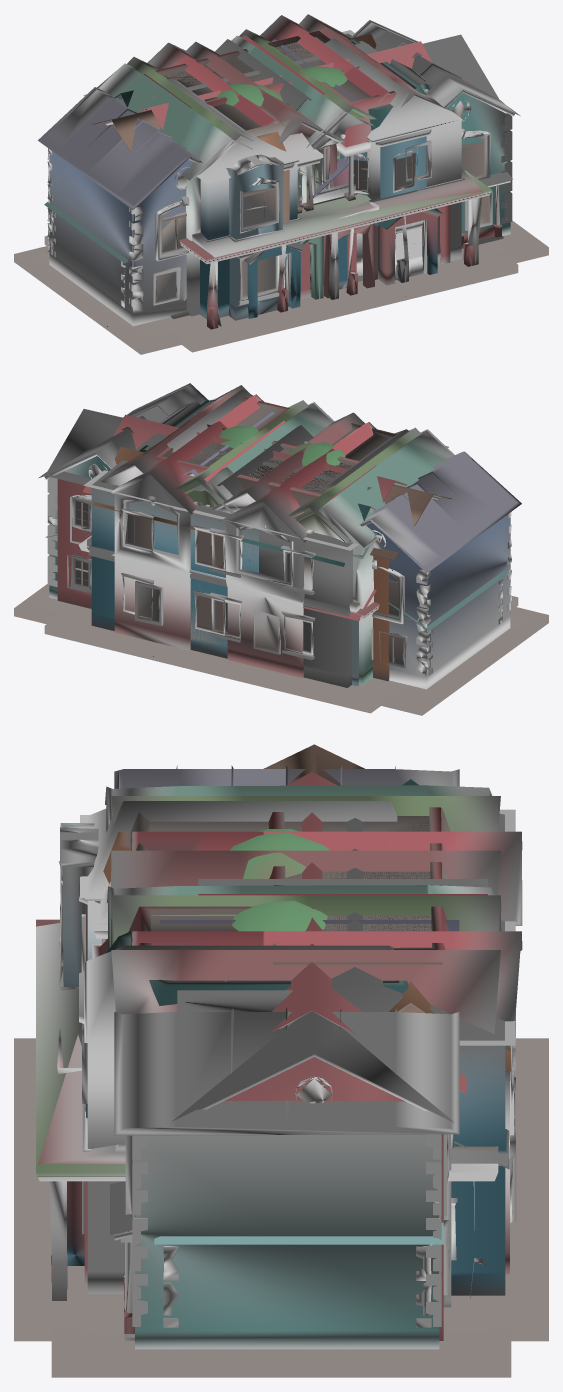
The model's file is Props.glb.
3 views of the same model, one above another, from view 1: azimuth 30°, elevation 25°; view 2: azimuth 150°, elevation 25°; view 3: azimuth 270°, elevation 25° (orthographic). The views are drawn at different scales.
Visible parts, largest first — view 1: house_20, house_4, house_2, house_16, house_19, house_3, house_1, house_17, house_12, house_6, house_13, house_9 (+8 smaller); view 2: house_3, house_20, house_4, house_17, house_2, house_19, house_6, house_16, house_1, house_11, house_13, house_9 (+7 smaller); view 3: house_2, house_3, house_16, house_1, house_4, house_20, house_6, house_17, house_19, house_5, house_9, house_13 (+7 smaller).
Boxes of the visible parts, x1,y1,x2,y2 form: house_20: [14, 87, 548, 354]; house_4: [167, 30, 508, 340]; house_2: [14, 20, 548, 354]; house_16: [127, 29, 492, 335]; house_19: [97, 35, 374, 336]; house_3: [44, 15, 518, 352]; house_1: [179, 14, 483, 329]; house_17: [83, 38, 506, 340]; house_12: [114, 38, 443, 285]; house_6: [31, 34, 528, 338]; house_13: [144, 30, 396, 281]; house_9: [156, 28, 376, 293]; house_3: [44, 394, 518, 713]; house_20: [14, 451, 548, 714]; house_4: [83, 429, 448, 701]; house_17: [167, 389, 377, 701]; house_2: [14, 383, 548, 715]; house_19: [183, 402, 454, 695]; house_6: [31, 409, 531, 633]; house_16: [75, 400, 421, 696]; house_1: [70, 385, 379, 684]; house_11: [370, 484, 451, 692]; house_13: [155, 397, 376, 499]; house_9: [143, 420, 396, 511]; house_2: [51, 1008, 511, 1377]; house_3: [14, 831, 548, 1341]; house_16: [35, 796, 527, 1305]; house_1: [36, 850, 500, 1289]; house_4: [34, 801, 540, 1295]; house_20: [51, 765, 511, 1377]; house_6: [78, 1011, 483, 1354]; house_17: [22, 809, 541, 1294]; house_19: [41, 785, 521, 1317]; house_5: [75, 870, 487, 1332]; house_9: [91, 808, 450, 964]; house_13: [92, 807, 448, 958].
Bounding box in the file's own units: 21.21 × 9 × 13.29.
